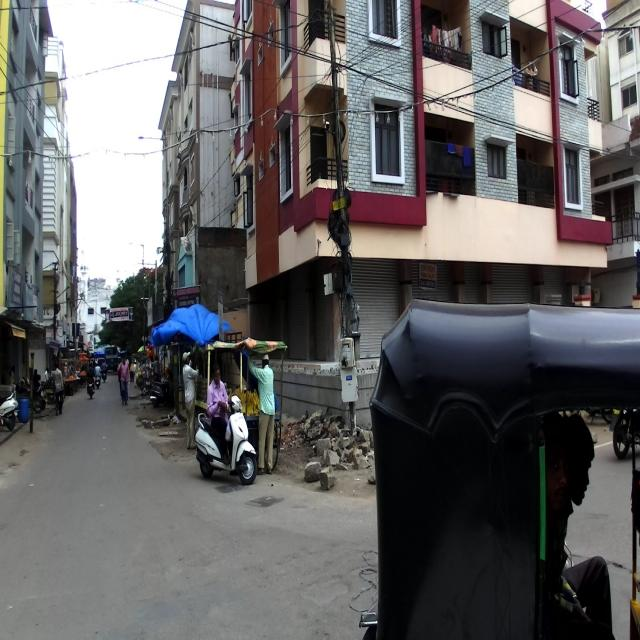autorickshaw: (369, 299, 640, 638)
scooter: (195, 394, 258, 485)
